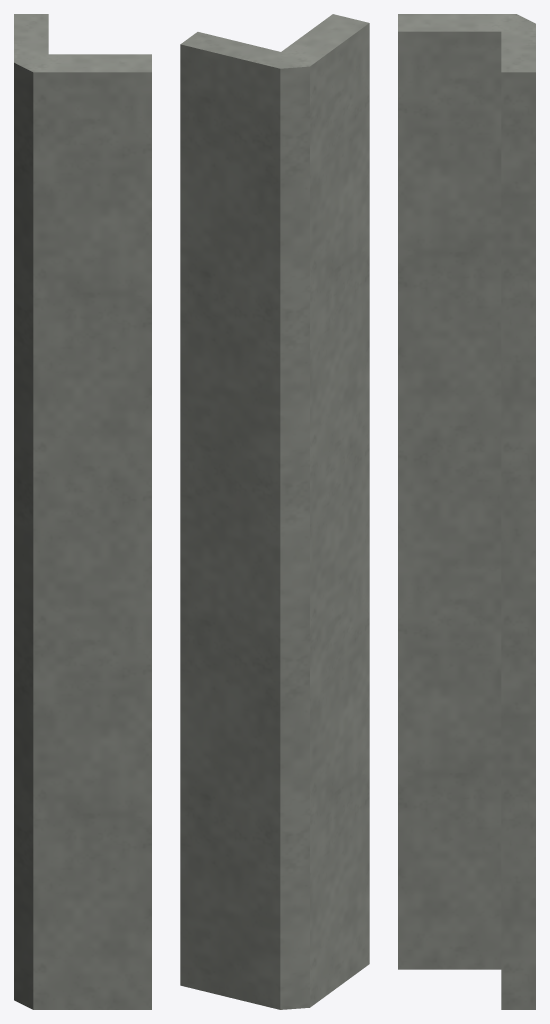
Rendered from concrete-chamfer-corner.lod1.glb.
The picture shows the model from 3 angles, left to right: view 1: azimuth 90°, elevation 25°; view 2: azimuth 150°, elevation 25°; view 3: azimuth 270°, elevation 25°; orthographic projection.
Visible parts, largest first — view 1: concrete-chamfer-corner; view 2: concrete-chamfer-corner; view 3: concrete-chamfer-corner.
Boxes of the visible parts, left/top/right/bottom form: concrete-chamfer-corner: left=14, top=14, right=151, bottom=1009; concrete-chamfer-corner: left=180, top=14, right=369, bottom=1009; concrete-chamfer-corner: left=398, top=14, right=535, bottom=1009.
Size of the model in its own units: 0.36 by 2.7 by 0.36.
1 material, 1 textured.
